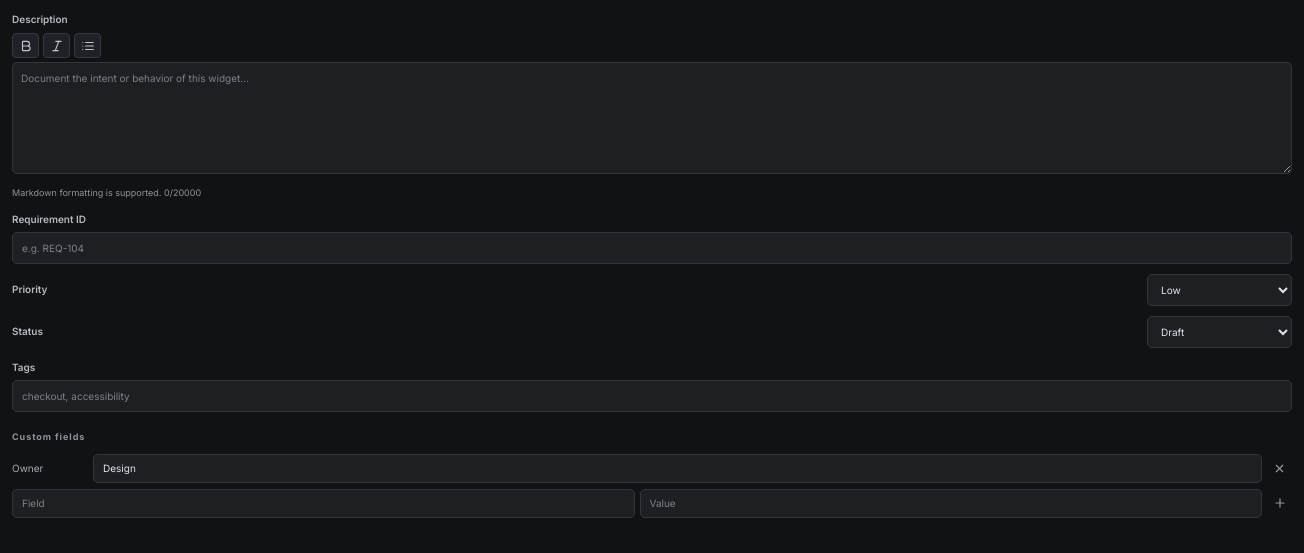
Test: WidgetNotesPanel › rejects duplicate custom field names
In the field named "Custom field name": (323, 503) [12, 488, 634, 518], type "Owner"
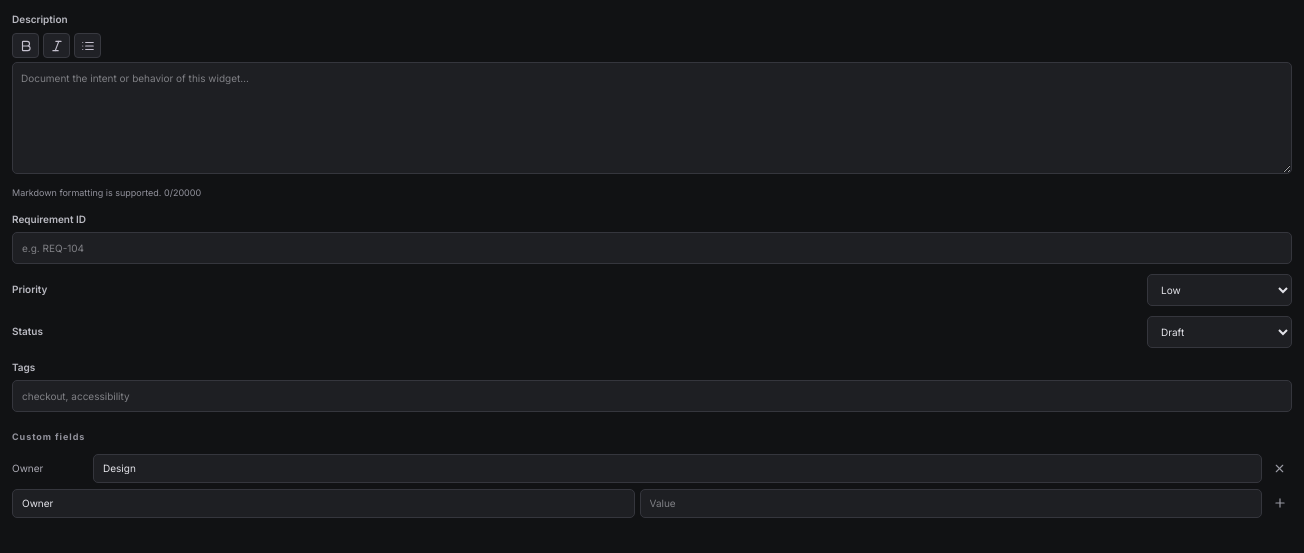
Click the button named "Add custom field": (1280, 503) [1267, 490, 1292, 516]
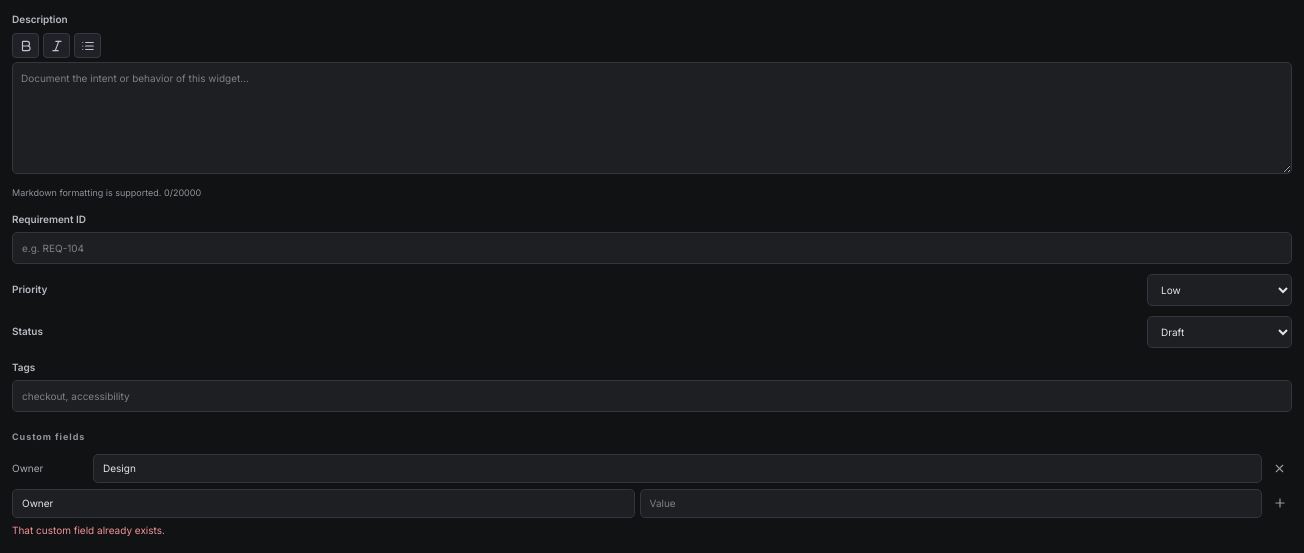
Now the message reads "That custom field already exists.", box [12, 524, 165, 536]
